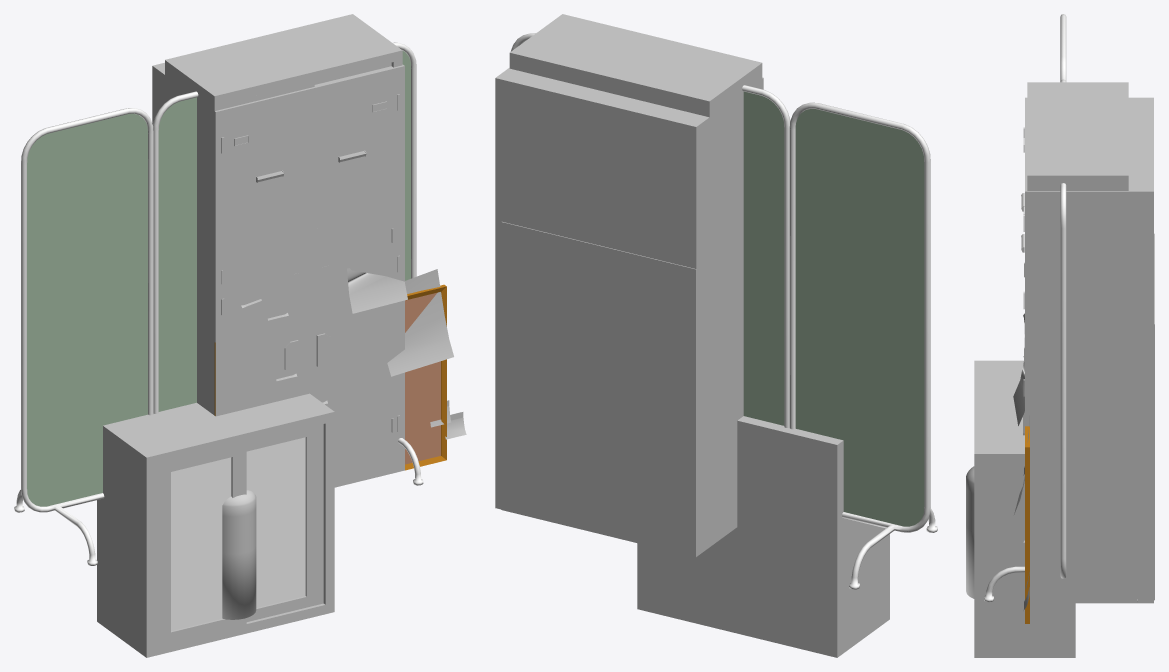
Rendered from mobiliarioquirofanovarios.fbx.
The picture shows the model from 3 angles, left to right: view 1: azimuth 30°, elevation 25°; view 2: azimuth 150°, elevation 25°; view 3: azimuth 270°, elevation 25°; orthographic projection. The views are drawn at different scales.
Parts seen in each view (by area): view 1: Prop_Decoracion_Separacion_Mapara_01, Prop_Mueble_Herramientas_05, Prop_Mueble_Herramientas_04_Puerta_A, Prop_Mueble_Herramientas_03, Prop_Mueble_Herramientas_02_Puerta_A, Prop_Mueble_Herramientas_04_Puerta_B, Prop_Decoracion_Separacion_Mapara_02, Prop_Mueble_Herramientas_05_Vidrio_Puerta A, Prop_Mueble_Herramientas_05_Vidrio_Puerta B, Prop_Mueble_Herramientas_04, Prop_Mueble_Herramientas_05_Puerta_A, Prop_Mueble_Herramientas_02_Puerta_B (+8 smaller); view 2: Prop_Mueble_Herramientas_02, Prop_Decoracion_Separacion_Mapara_01, Prop_Mueble_Herramientas_04, Prop_Mueble_Herramientas_05, Prop_Mueble_Herramientas_03, Prop_Decoracion_Separacion_Mapara_02, Prop_Mueble_Herramientas_06; view 3: Prop_Mueble_Herramientas_04, Prop_Mueble_Herramientas_05, Prop_Mueble_Herramientas_03, Prop_Decoracion_Separacion_Mapara_03, Matafuegos, Prop_Decoracion_Interior_Pizzarra_B, Prop_Decoracion_Separacion_Mapara_01, Prop_Decoracion_Interior_Pizzarra_B_Nota_5, Prop_Mueble_Herramientas_02.
Boxes of the visible parts, x1,y1,x2,y2 form: Prop_Decoracion_Separacion_Mapara_01: (14,108,153,565); Prop_Mueble_Herramientas_05: (97,393,334,657); Prop_Mueble_Herramientas_04_Puerta_A: (221,97,310,414); Prop_Mueble_Herramientas_03: (165,14,403,487); Prop_Mueble_Herramientas_02_Puerta_A: (307,211,393,465); Prop_Mueble_Herramientas_04_Puerta_B: (310,75,400,466); Prop_Decoracion_Separacion_Mapara_02: (153,91,198,413); Prop_Mueble_Herramientas_05_Vidrio_Puerta A: (171,457,231,630); Prop_Mueble_Herramientas_05_Vidrio_Puerta B: (246,437,305,607); Prop_Mueble_Herramientas_04: (152,62,404,486); Prop_Mueble_Herramientas_05_Puerta_A: (155,443,246,645); Prop_Mueble_Herramientas_02_Puerta_B: (221,231,307,393); Prop_Mueble_Herramientas_02: (501,221,726,557); Prop_Decoracion_Separacion_Mapara_01: (789,102,937,589); Prop_Mueble_Herramientas_04: (495,68,763,556); Prop_Mueble_Herramientas_05: (637,416,889,657); Prop_Mueble_Herramientas_03: (509,14,762,303); Prop_Decoracion_Separacion_Mapara_02: (742,85,790,427); Prop_Mueble_Herramientas_06: (709,279,743,546); Prop_Mueble_Herramientas_04: (1025,97,1153,603); Prop_Mueble_Herramientas_05: (974,360,1075,657); Prop_Mueble_Herramientas_03: (1027,82,1128,190); Prop_Decoracion_Separacion_Mapara_03: (984,183,1137,602); Matafuegos: (966,466,974,598); Prop_Decoracion_Interior_Pizzarra_B: (1025,426,1029,623); Prop_Decoracion_Separacion_Mapara_01: (1060,14,1066,81); Prop_Decoracion_Interior_Pizzarra_B_Nota_5: (1013,361,1024,425); Prop_Mueble_Herramientas_02: (1154,233,1154,600).
Bounding box in the file's own units: 198 × 231 × 74.64.
